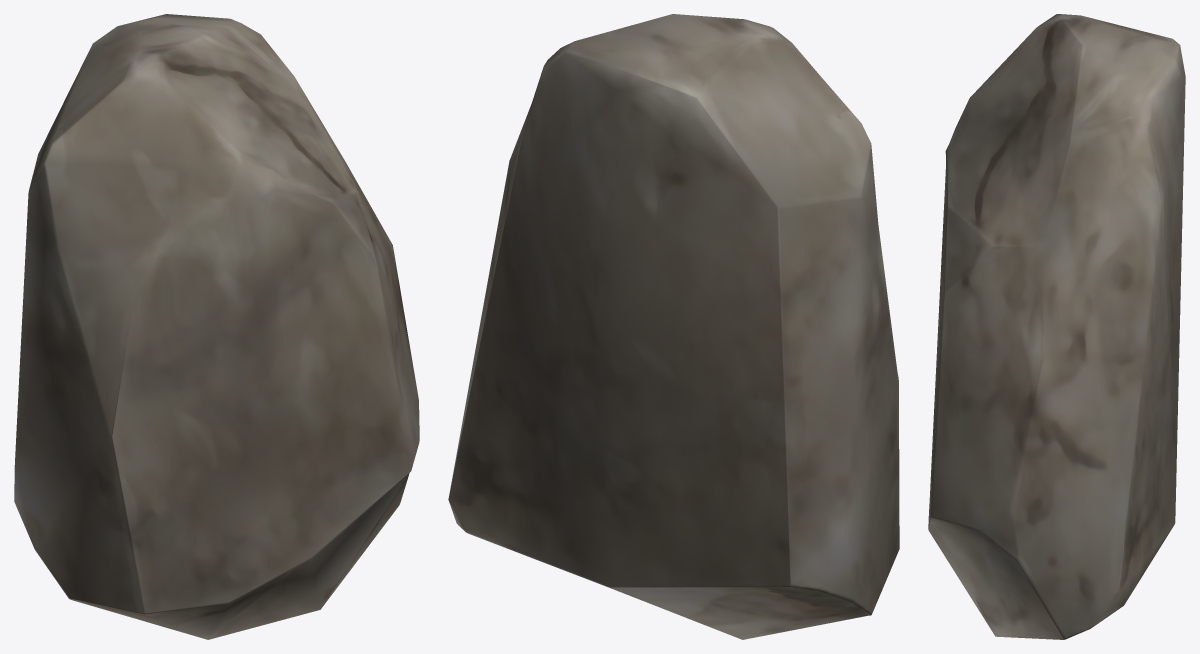
File: rock-2.glb
The picture shows the model from 3 angles, left to right: view 1: azimuth 30°, elevation 25°; view 2: azimuth 150°, elevation 25°; view 3: azimuth 270°, elevation 25°; orthographic projection. The views are drawn at different scales.
Visible parts, largest first — view 1: rock_2_Cube.014; view 2: rock_2_Cube.014; view 3: rock_2_Cube.014.
Boxes of the visible parts, left/top/right/bottom form: rock_2_Cube.014: left=14, top=14, right=419, bottom=639; rock_2_Cube.014: left=448, top=14, right=899, bottom=639; rock_2_Cube.014: left=928, top=14, right=1185, bottom=639.
Bounding box in the file's own units: 1.3 × 1.97 × 0.8104.
Materials: 1 (1 with a texture image).
